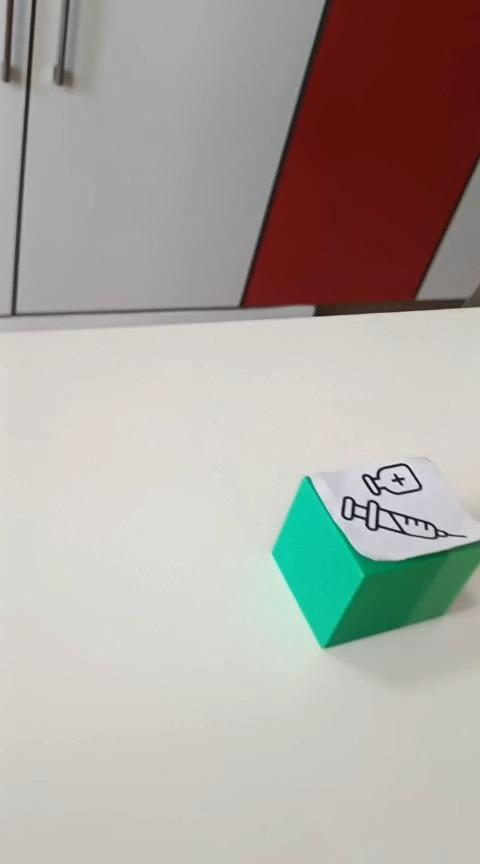antiseptic cream: (270, 454, 478, 649)
